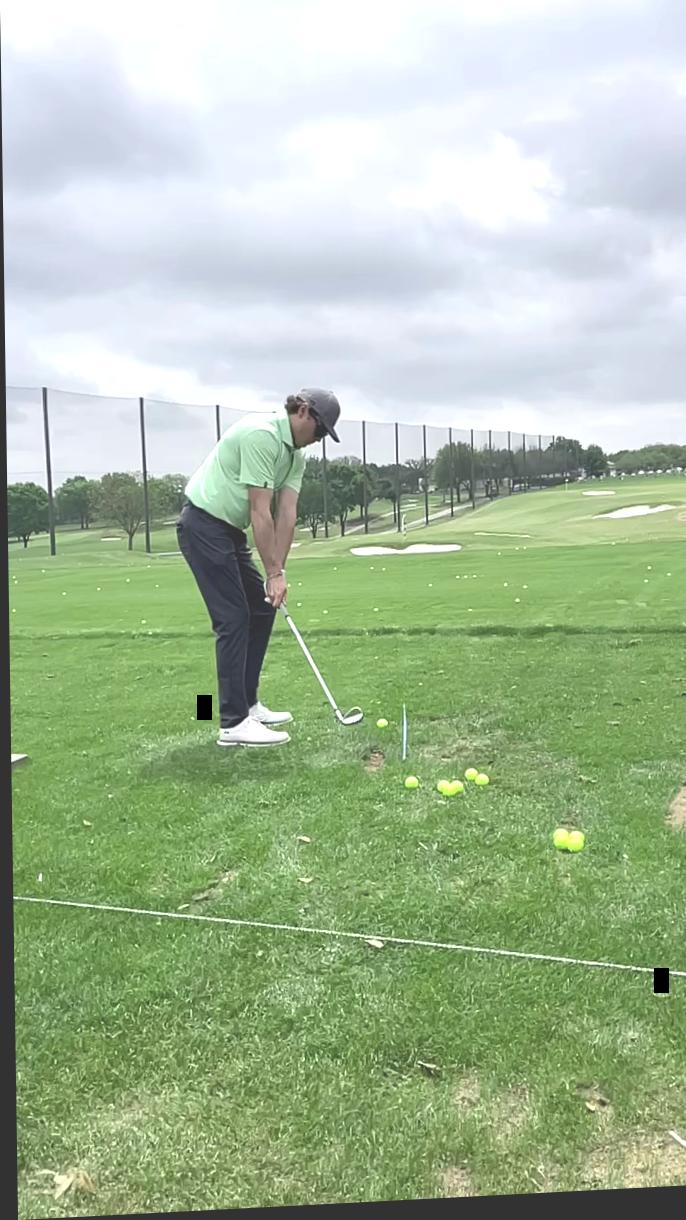ClubHead: (331, 704, 364, 744)
GolfBall: (400, 774, 418, 800), (373, 717, 389, 739)
